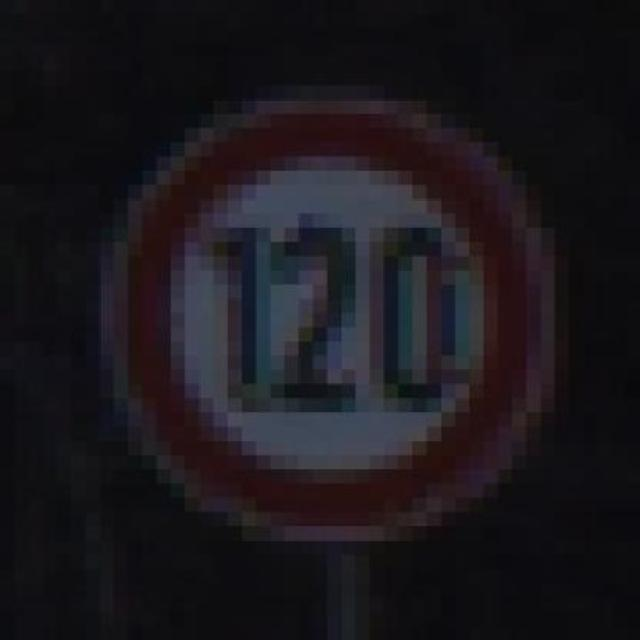forb_speed_over_120: (116, 98, 547, 533)
